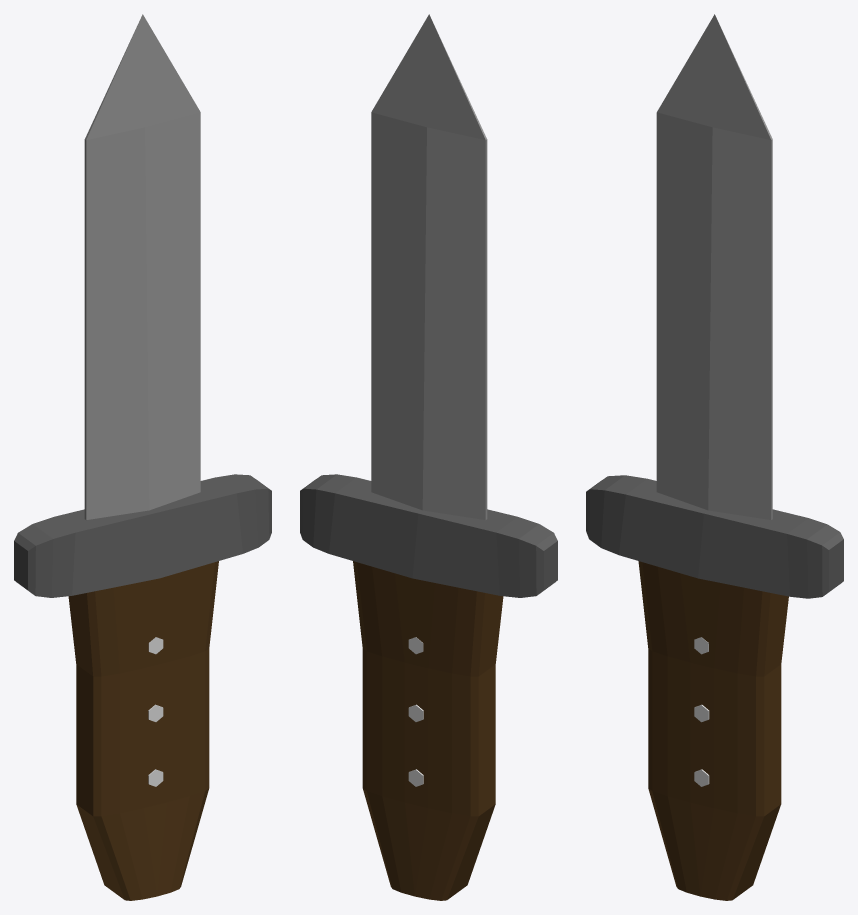
File: Knife.fbx
3 views of the same model, side by side, from view 1: azimuth 30°, elevation 25°; view 2: azimuth 150°, elevation 25°; view 3: azimuth 330°, elevation 25° (orthographic).
Visible parts, largest first — view 1: Knife_3, Knife_1, Knife_2, Knife; view 2: Knife_3, Knife_1, Knife_2, Knife; view 3: Knife_3, Knife_1, Knife_2, Knife.
Part boxes in pixels (x1,y1,x2,y2): Knife_3: [84, 112, 200, 519]; Knife_1: [68, 561, 218, 900]; Knife_2: [14, 474, 271, 597]; Knife: [85, 14, 200, 140]; Knife_3: [371, 112, 487, 519]; Knife_1: [353, 561, 503, 900]; Knife_2: [300, 474, 557, 597]; Knife: [371, 14, 486, 140]; Knife_3: [656, 112, 772, 519]; Knife_1: [638, 561, 788, 900]; Knife_2: [586, 475, 843, 598]; Knife: [657, 14, 772, 139].
Bounding box in the file's own units: 0.1221 × 0.029 × 0.4181.
